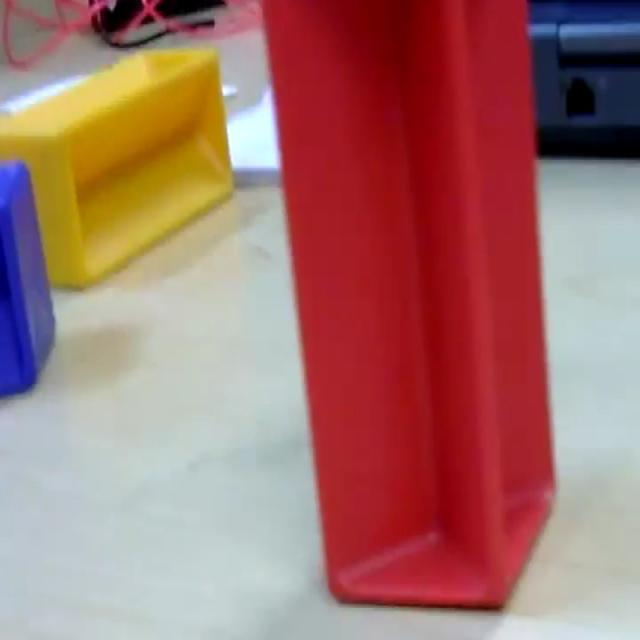blue_block: (0, 158, 56, 398)
red_block: (258, 0, 557, 609)
yellow_block: (1, 44, 234, 289)
